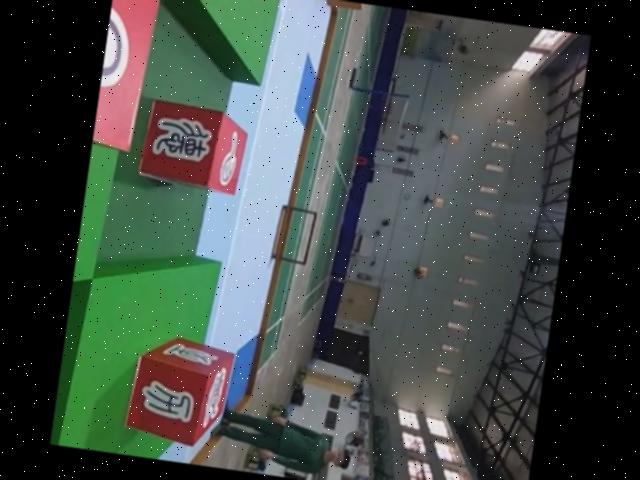R2 Fake: (122, 330, 238, 454), (135, 96, 255, 201)
